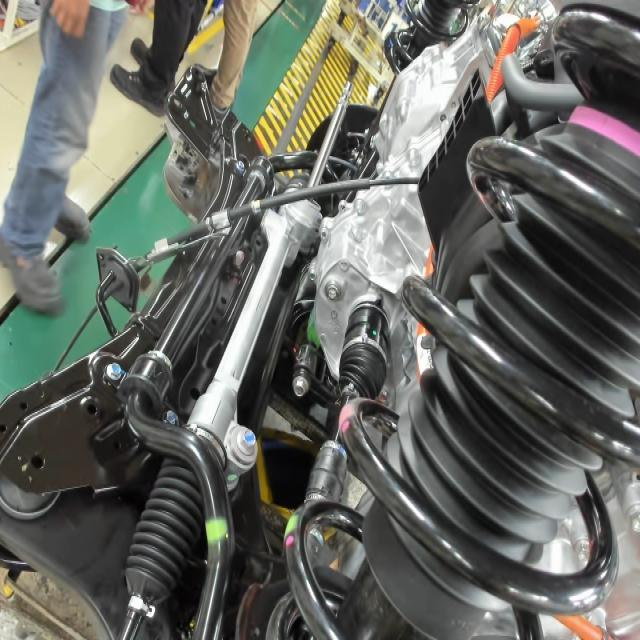Bar Stabilizer-HJ: (200, 511, 233, 551)
Bumper-PK: (560, 94, 640, 167)
